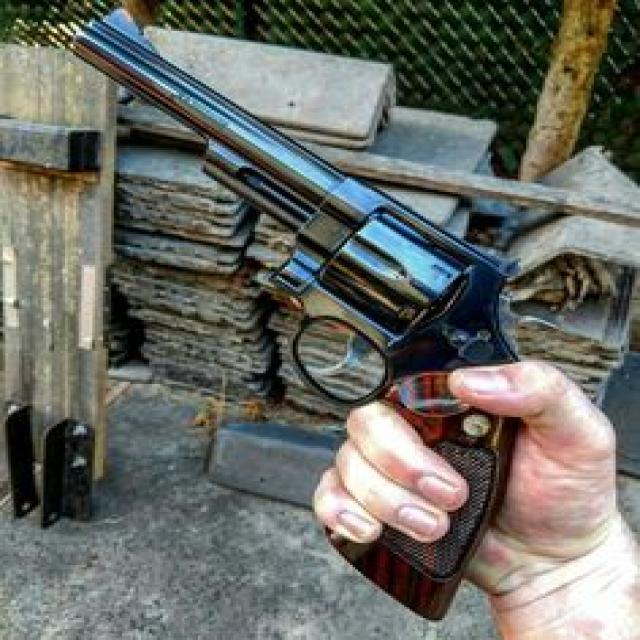revolver: (54, 0, 640, 622)
